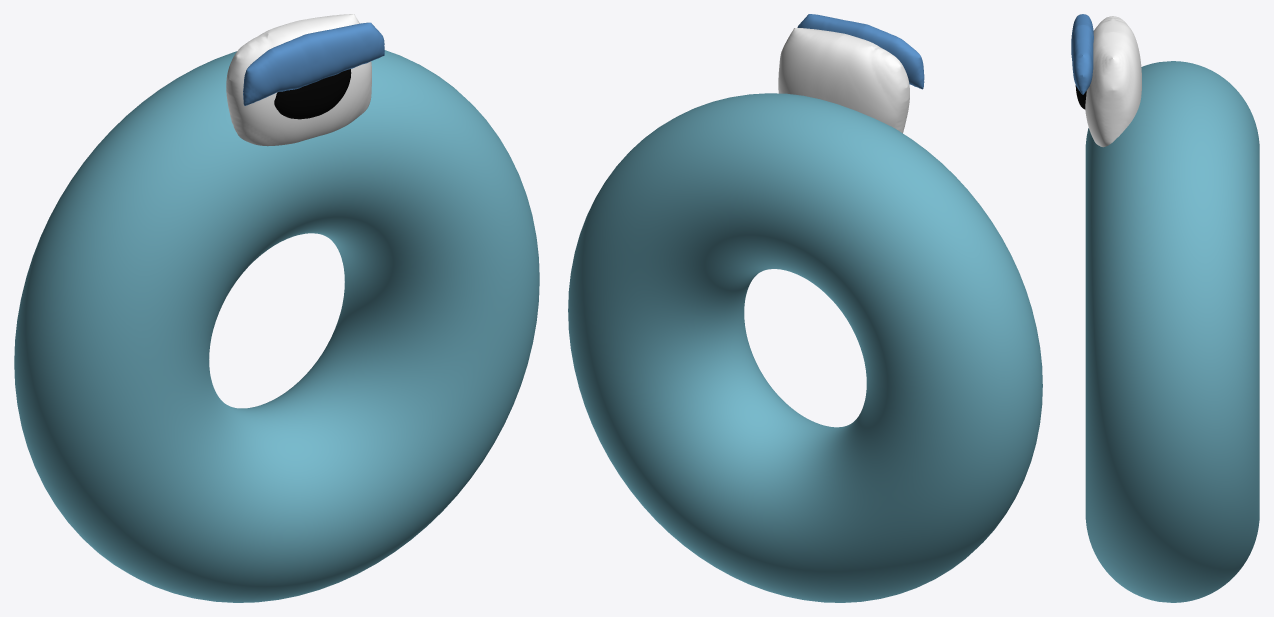
Rendered from o_alphabet_lore.glb.
3 renders of one model, left to right at view 1: azimuth 30°, elevation 25°; view 2: azimuth 150°, elevation 25°; view 3: azimuth 270°, elevation 25°, orthographic. The views are drawn at different scales.
Visible parts, largest first — view 1: root_Material_46_0, root_Material_48_0, root_Material_62_0, root_Material_52_0; view 2: root_Material_46_0, root_Material_48_0, root_Material_62_0; view 3: root_Material_46_0, root_Material_48_0, root_Material_62_0.
Part boxes in pixels (x1,y1,x2,y2): root_Material_46_0: [14, 50, 539, 602]; root_Material_48_0: [226, 14, 371, 146]; root_Material_62_0: [243, 22, 384, 105]; root_Material_52_0: [274, 69, 351, 119]; root_Material_46_0: [568, 93, 1042, 602]; root_Material_48_0: [778, 28, 909, 133]; root_Material_62_0: [797, 14, 924, 89]; root_Material_46_0: [1085, 61, 1259, 602]; root_Material_48_0: [1085, 16, 1141, 147]; root_Material_62_0: [1071, 14, 1093, 94].
Bounding box in the file's own units: 0.00322 × 0.00366 × 0.00114.
